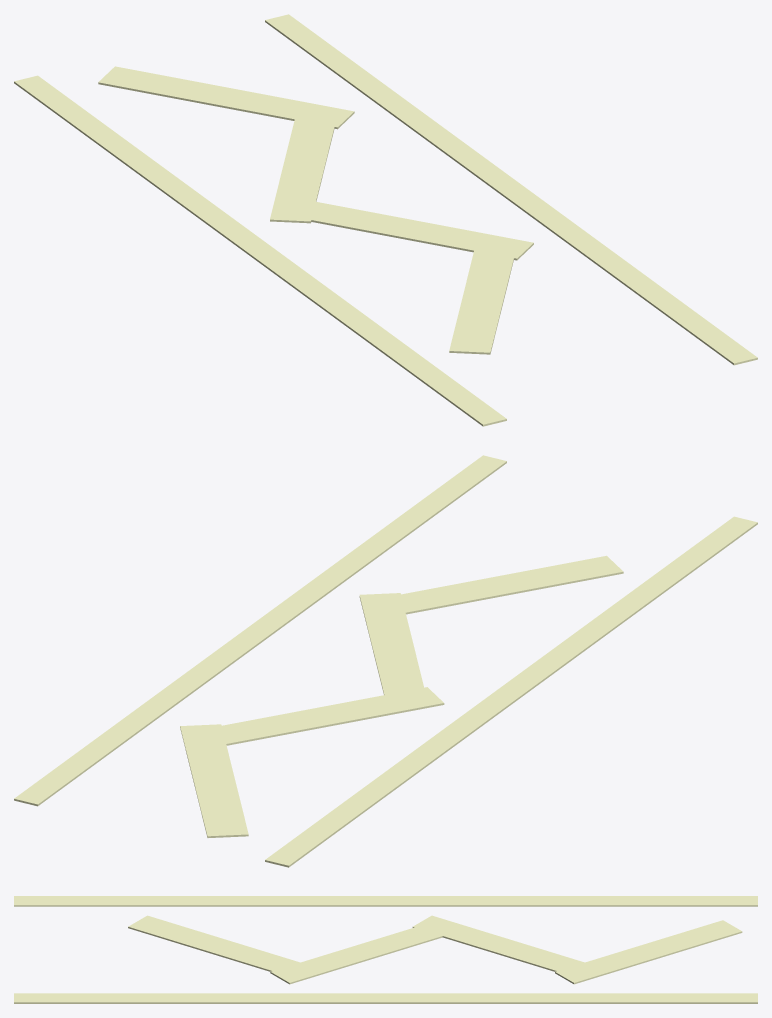
The model's file is marking_separator_buffer_white.glb.
3 renders of one model, top to bottom at view 1: azimuth 30°, elevation 25°; view 2: azimuth 150°, elevation 25°; view 3: azimuth 270°, elevation 25°, orthographic. The views are drawn at different scales.
Visible parts, largest first — view 1: separator_buffer_white_edge_left, separator_buffer_white_edge_right, separator_buffer_white_diag_0, separator_buffer_white_diag_3, separator_buffer_white_diag_2, separator_buffer_white_diag_1; view 2: separator_buffer_white_edge_left, separator_buffer_white_edge_right, separator_buffer_white_diag_3, separator_buffer_white_diag_0, separator_buffer_white_diag_2, separator_buffer_white_diag_1; view 3: separator_buffer_white_edge_left, separator_buffer_white_edge_right, separator_buffer_white_diag_0, separator_buffer_white_diag_2, separator_buffer_white_diag_3, separator_buffer_white_diag_1.
Part boxes in pixels (x1,y1,x2,y2): separator_buffer_white_edge_left: (14,75,506,426); separator_buffer_white_edge_right: (265,14,757,365); separator_buffer_white_diag_0: (98,66,354,129); separator_buffer_white_diag_3: (449,240,517,354); separator_buffer_white_diag_2: (278,197,533,260); separator_buffer_white_diag_1: (270,109,337,223); separator_buffer_white_edge_left: (265,516,757,867); separator_buffer_white_edge_right: (14,455,506,806); separator_buffer_white_diag_3: (367,555,623,616); separator_buffer_white_diag_0: (180,724,248,837); separator_buffer_white_diag_2: (359,593,427,704); separator_buffer_white_diag_1: (198,687,444,747); separator_buffer_white_edge_left: (14,896,757,906); separator_buffer_white_edge_right: (14,993,757,1003); separator_buffer_white_diag_0: (555,920,742,984); separator_buffer_white_diag_2: (270,920,457,984); separator_buffer_white_diag_3: (128,915,308,977); separator_buffer_white_diag_1: (412,915,596,977).
Size of the model in its own units: 0.92 by 0.006 by 2.72.
